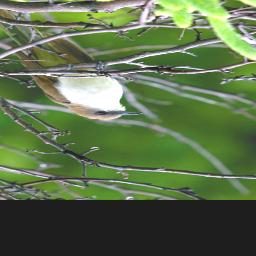Cuckoo: (0, 5, 136, 122)
